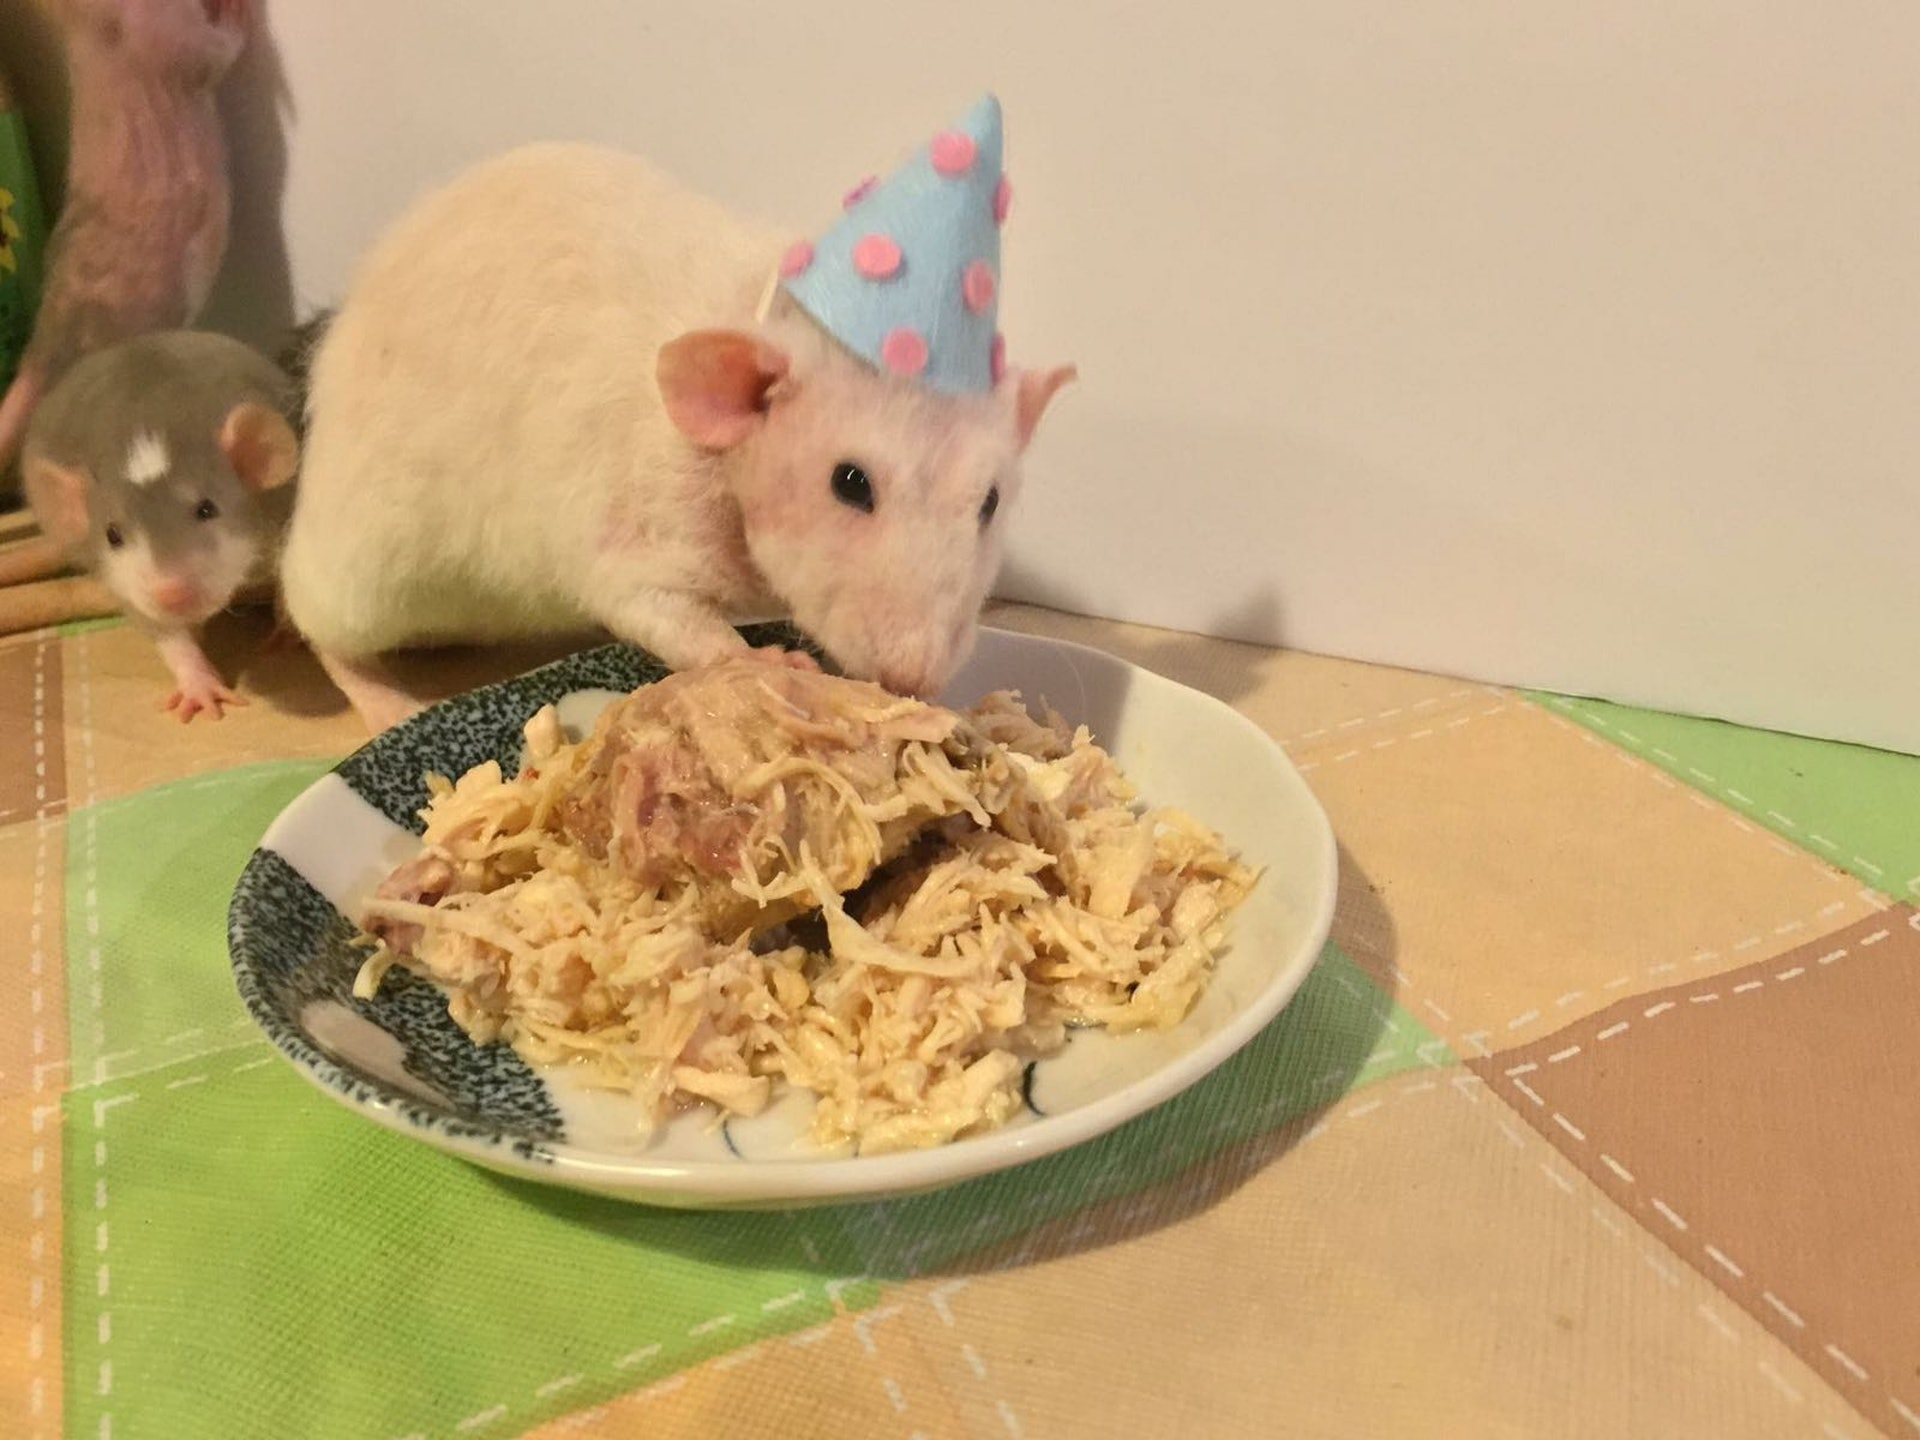mouse: (305, 138, 1163, 700), (35, 242, 302, 749)
